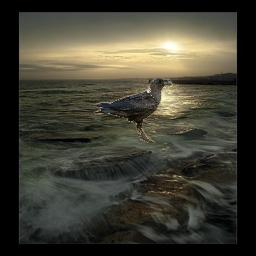Crow: (94, 78, 173, 143)
